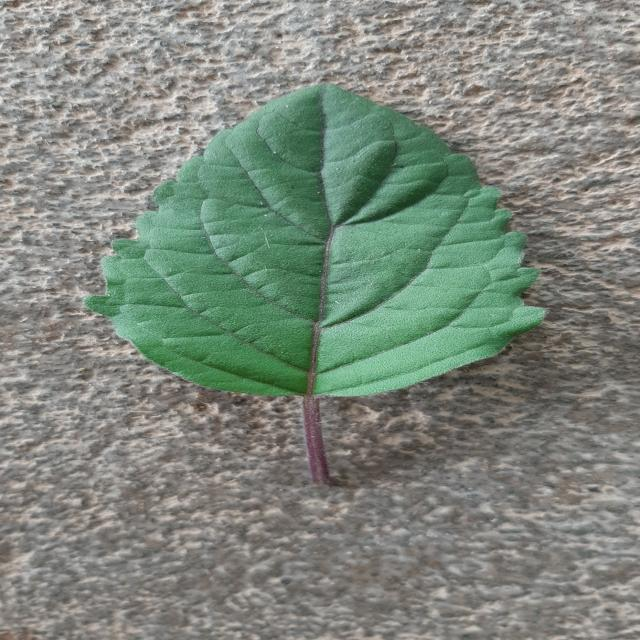tulsi: (87, 85, 542, 396)
